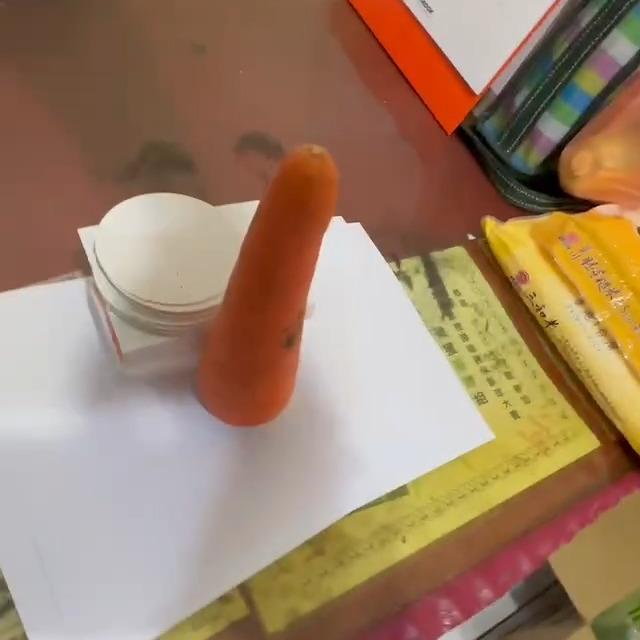carrot: (207, 143, 341, 425)
